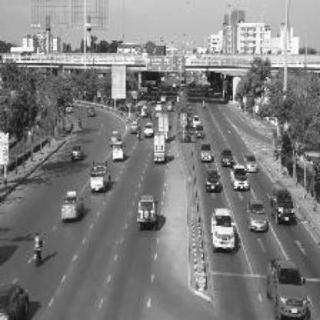other: (188, 123, 208, 133)
